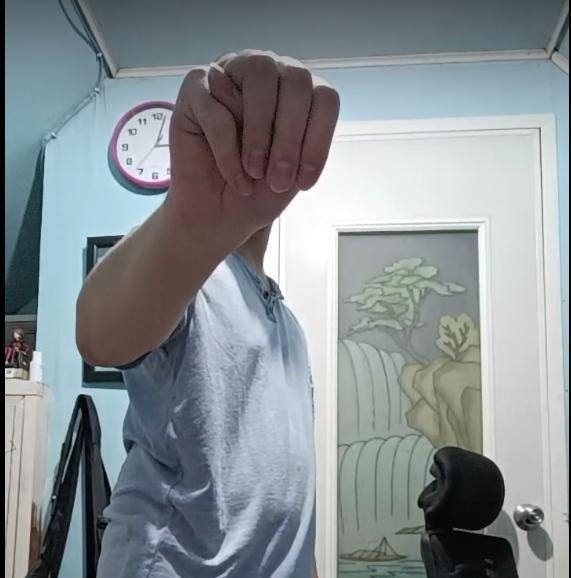m: (167, 50, 341, 227)
